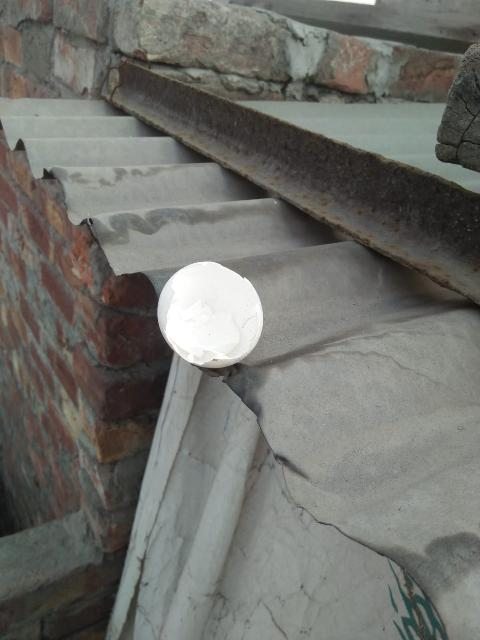Roto: (156, 260, 264, 370)
